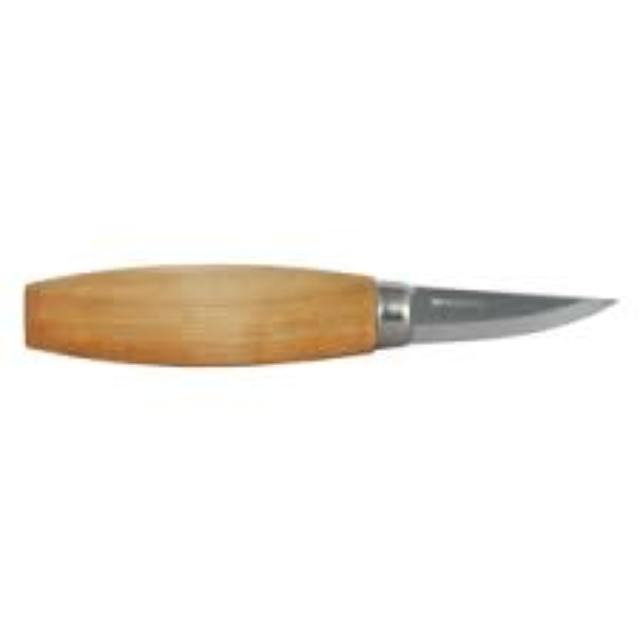Knife: (20, 259, 618, 367)
